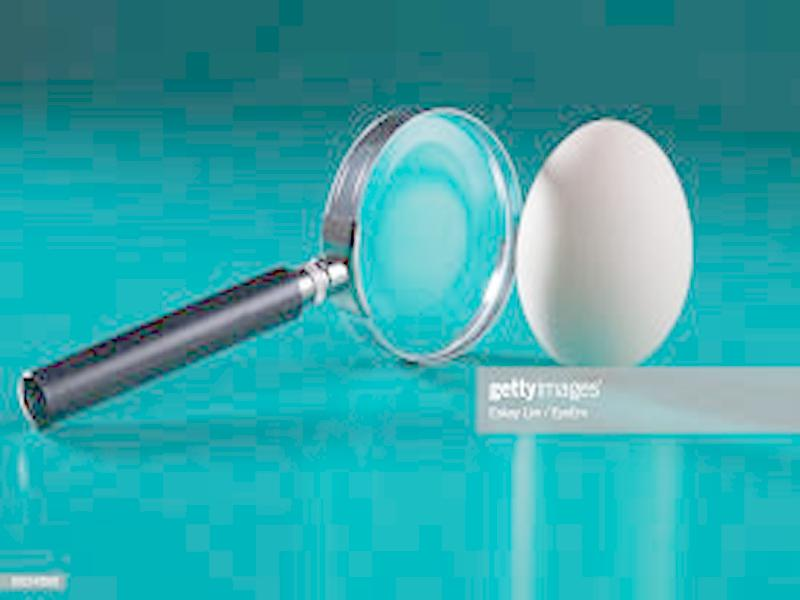Eggs: (515, 118, 692, 370)
